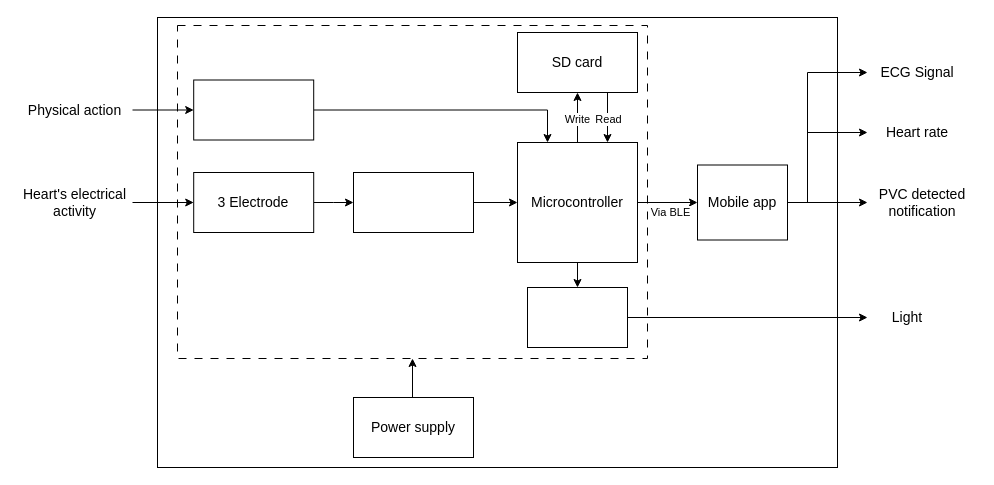
Image size: 994x485. Some labels were removed from this diagram. The shapes that lost their labels are listed below. From the top down, each one's centre as x and y in pixels, then its label:
(253,109): Push button
(413,202): ECG sensor module
(577,317): LED
